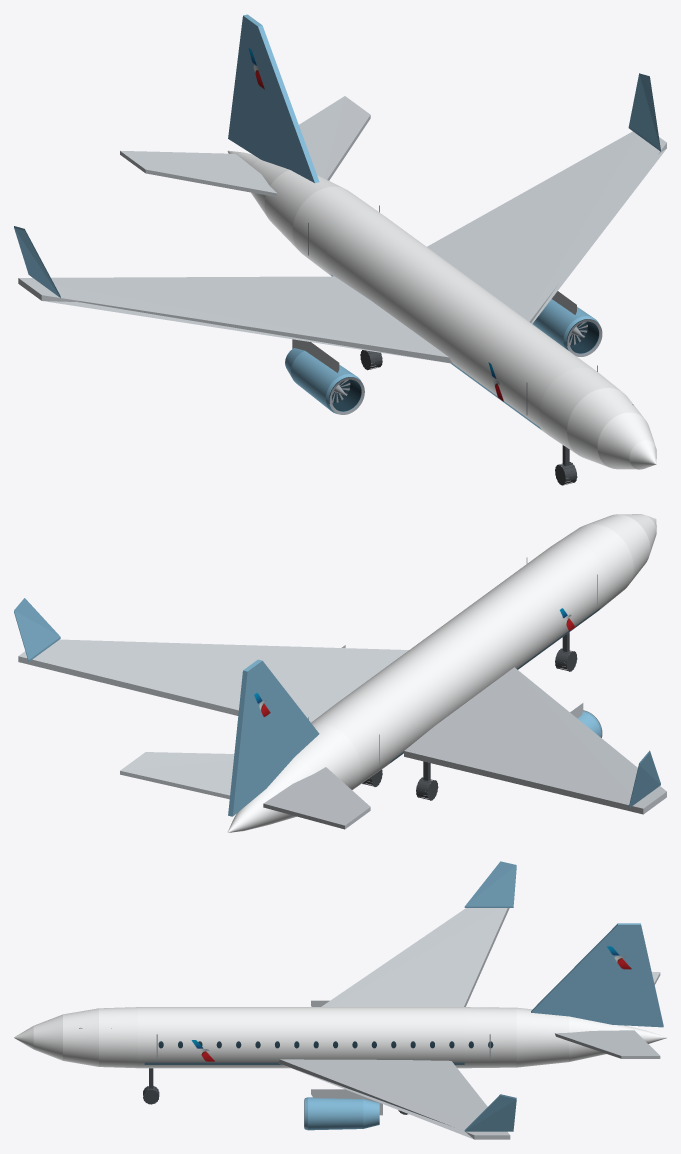
The model's file is regional-AAL-v4.gltf.
3 renders of one model, top to bottom at view 1: azimuth 30°, elevation 25°; view 2: azimuth 150°, elevation 25°; view 3: azimuth 270°, elevation 25°, orthographic. The views are drawn at different scales.
Parts seen in each view (by area): view 1: object 1; view 2: object 1; view 3: object 1.
Part boxes in pixels (x1=…): object 1: x1=14, y1=14, x2=666, y2=469; object 1: x1=14, y1=514, x2=666, y2=832; object 1: x1=14, y1=861, x2=666, y2=1139.
Size of the model in its own units: 27 by 9.64 by 32.
Materials: 8 (1 with a texture image).
